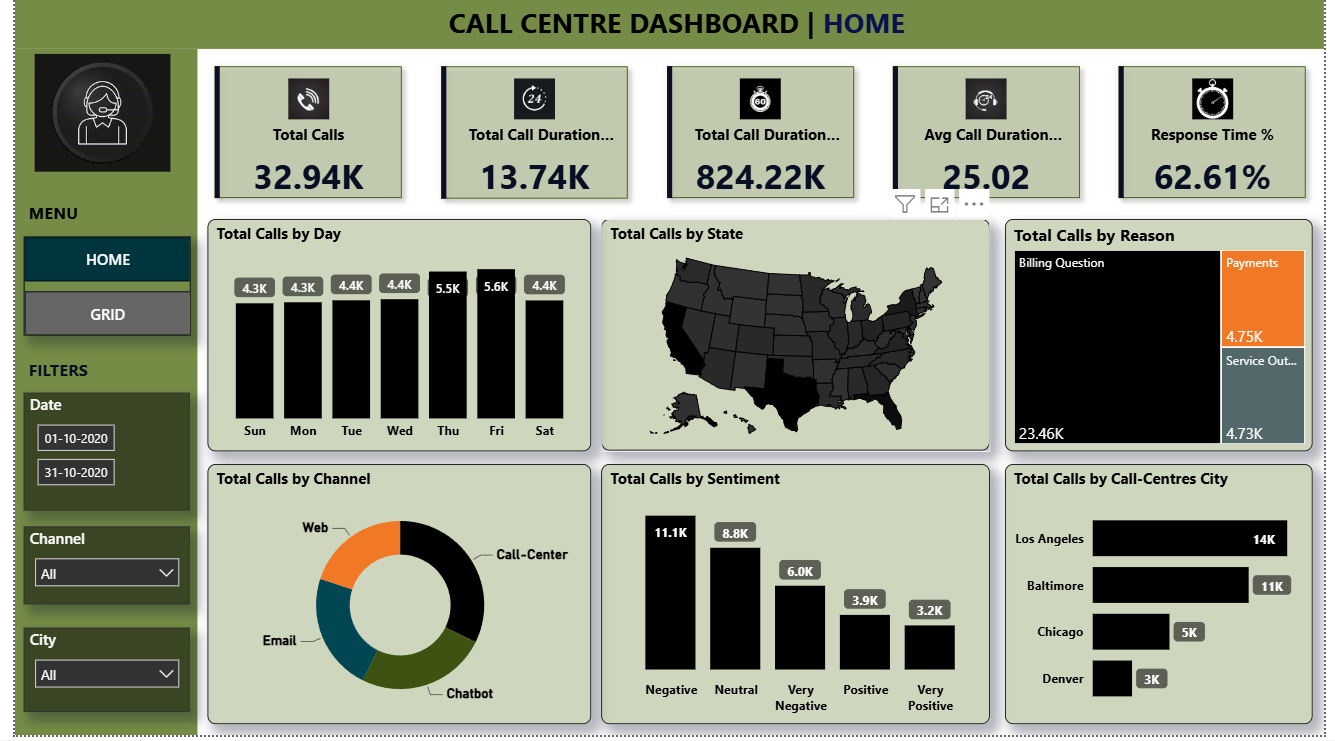

The dashboard page shown, as its layout file describes it:
{"tool":"powerbi","page":{"name":"HOME","canvas":[1280,720],"ordinal":0},"visuals":[{"type":"shape","box":[0,0,1279.9,48.9],"z":0},{"type":"shape","box":[0,48.9,178.5,671.1],"z":1000},{"type":"cardVisual","fields":{"Data":["Call Center_Call Center.Total Calls","Call Center_Call Center.Total Call Duration (Hrs)","Call Center_Call Center.Total Call Duration (min)","Call Center_Call Center.Avg Call Duration (Min)","Call Center_Call Center.Response Time %"]},"box":[178.5,48.9,1101.4,163.8],"z":2000},{"type":"textbox","box":[188.3,0,918,48.9],"z":3000},{"type":"columnChart","fields":{"Category":["Date Table.Day"],"Y":["Call Center_Call Center.Total Calls"]},"box":[188.3,215.1,375.3,227.4],"z":4000},{"type":"shapeMap","fields":{"Category":["Call Center_Call Center.State"],"Value":["Call Center_Call Center.Total Calls"]},"box":[573.2,215.5,380.3,226.8],"z":5000},{"type":"treemap","fields":{"Values":["Call Center_Call Center.Total Calls"],"Group":["Call Center_Call Center.Reason"]},"box":[968.1,215.1,300.7,227.4],"z":6000},{"type":"donutChart","fields":{"Category":["Call Center_Call Center.Channel"],"Y":["Call Center_Call Center.Total Calls"]},"box":[188.3,454.7,375.3,254.3],"z":7000},{"type":"columnChart","fields":{"Category":["Call Center_Call Center.Sentiment"],"Y":["Call Center_Call Center.Total Calls"]},"box":[573.3,454.7,380.2,254.3],"z":8000},{"type":"barChart","fields":{"Category":["Call Center_Call Center.Call-Centres City"],"Y":["Call Center_Call Center.Total Calls"]},"box":[968.1,454.7,300.7,254.3],"z":9000},{"type":"slicer","title":"Date","fields":{"Values":["Date Table.Date"]},"box":[9,385.1,162.7,114.9],"z":10000},{"type":"slicer","title":"Channel","fields":{"Values":["Call Center_Call Center.Channel"]},"box":[9,516.4,162.7,76.1],"z":11000},{"type":"slicer","title":"City","fields":{"Values":["Call Center_Call Center.City"]},"box":[9,614.9,162.7,82.1],"z":12000},{"type":"image","box":[0,49.3,171.6,125.4],"z":13000},{"type":"pageNavigator","box":[8.5,232.4,163.4,97.2],"z":14000},{"type":"textbox","box":[8.5,346.5,163.4,38],"z":15000},{"type":"textbox","box":[8.5,193,163.4,39.4],"z":16000}]}

Visuals, with their boxes in screenshot pixels (x1, y1, x2, y2), scaled from the page's 1280x720 canvas onto the 1335x741 screenshot:
shape: locate(0, 0, 1334, 50)
shape: locate(0, 50, 186, 740)
cardVisual - Call Center_Call Center.Total Calls x Call Center_Call Center.Total Call Duration (Hrs): locate(186, 50, 1334, 219)
textbox: locate(196, 0, 1154, 50)
columnChart - Date Table.Day x Call Center_Call Center.Total Calls: locate(196, 221, 588, 455)
shapeMap - Call Center_Call Center.State x Call Center_Call Center.Total Calls: locate(598, 222, 994, 455)
treemap - Call Center_Call Center.Total Calls x Call Center_Call Center.Reason: locate(1010, 221, 1323, 455)
donutChart - Call Center_Call Center.Channel x Call Center_Call Center.Total Calls: locate(196, 468, 588, 730)
columnChart - Call Center_Call Center.Sentiment x Call Center_Call Center.Total Calls: locate(598, 468, 994, 730)
barChart - Call Center_Call Center.Call-Centres City x Call Center_Call Center.Total Calls: locate(1010, 468, 1323, 730)
"Date" slicer: locate(9, 396, 179, 515)
"Channel" slicer: locate(9, 531, 179, 610)
"City" slicer: locate(9, 633, 179, 717)
image: locate(0, 51, 179, 180)
pageNavigator: locate(9, 239, 179, 339)
textbox: locate(9, 357, 179, 396)
textbox: locate(9, 199, 179, 239)
